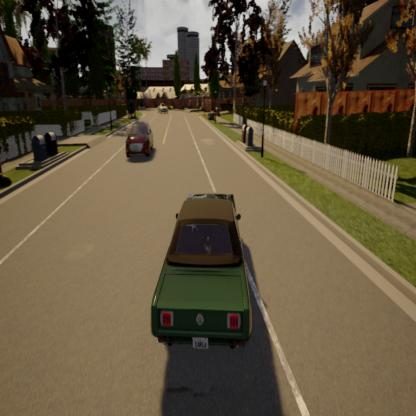Cars: (151, 195, 251, 352), (125, 122, 154, 162), (159, 100, 169, 114)
